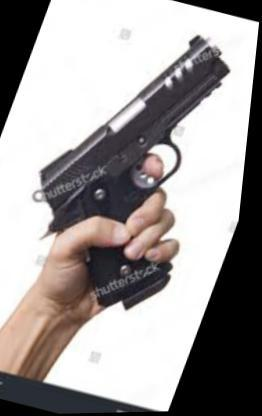pistol: (0, 1, 259, 328)
